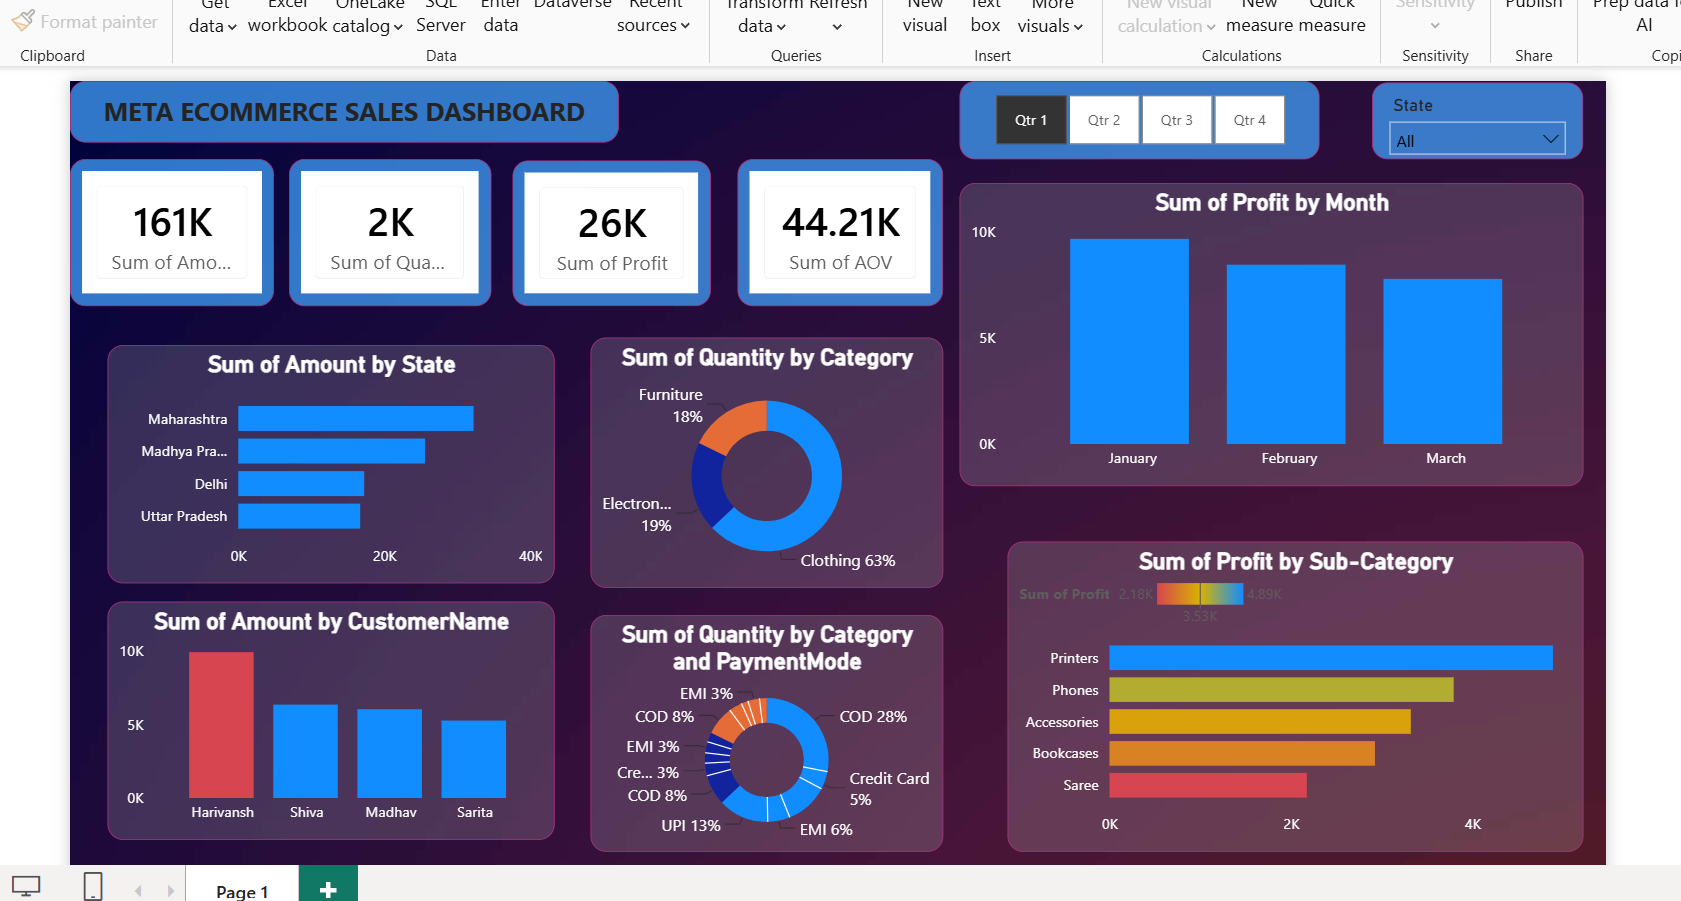

Layout of this report page (visuals, bound fields, positions):
{"tool":"powerbi","page":{"name":"Page 1","canvas":[1280,720],"ordinal":0},"visuals":[{"type":"textbox","box":[0,0,457.5,51.2],"z":0},{"type":"columnChart","fields":{"Category":["Orders.Order Date.Variation.Date Hierarchy.Month"],"Y":["Sum(Details.Profit)"]},"box":[741.2,85,520,252.5],"z":1000},{"type":"barChart","fields":{"Category":["Details.Sub-Category"],"Y":["Sum(Details.Profit)"]},"box":[781.2,383.8,480,258.8],"z":2000},{"type":"donutChart","fields":{"Category":["Details.Category"],"Y":["Sum(Details.Quantity)"]},"box":[433.8,213.8,293.8,208.8],"z":3000},{"type":"donutChart","fields":{"Category":["Details.Category"],"Y":["Sum(Details.Quantity)"],"Series":["Details.PaymentMode"]},"box":[433.8,445,293.8,197.5],"z":4000},{"type":"cardVisual","fields":{"Data":["Sum(Details.Amount)"]},"box":[0,65,170,122.5],"z":5000},{"type":"cardVisual","fields":{"Data":["Sum(Details.Quantity)"]},"box":[182.5,65,168.8,122.5],"z":6000},{"type":"cardVisual","fields":{"Data":["Sum(Details.Profit)"]},"box":[368.8,66.2,165,121.2],"z":7000},{"type":"cardVisual","fields":{"Data":["Sum(Details.AOV)"]},"box":[556.2,65,171.2,122.5],"z":8000},{"type":"barChart","fields":{"Category":["Orders.State"],"Y":["Sum(Details.Amount)"]},"box":[31.2,220,372.5,198.8],"z":9000},{"type":"columnChart","fields":{"Category":["Orders.CustomerName"],"Y":["Sum(Details.Amount)"]},"box":[31.2,433.8,372.5,198.8],"z":10000},{"type":"slicer","fields":{"Values":["Orders.Order Date.Variation.Date Hierarchy.Quarter"]},"box":[741.2,0,300,65],"z":11000},{"type":"slicer","fields":{"Values":["Orders.State"]},"box":[1085,1.2,176.2,63.8],"z":12000}]}

Visuals, with their boxes on the page's 1280x720 design canvas (x1, y1, x2, y2). These are canvas units, not pixel positions in the 1681x901 screenshot, which may show the page scaled, cropped or inside an application window:
textbox: <box>0,0,458,51</box>
columnChart - Orders.Order Date.Variation.Date Hierarchy.Month x Sum(Details.Profit): <box>741,85,1261,338</box>
barChart - Details.Sub-Category x Sum(Details.Profit): <box>781,384,1261,643</box>
donutChart - Details.Category x Sum(Details.Quantity): <box>434,214,728,423</box>
donutChart - Details.Category x Sum(Details.Quantity): <box>434,445,728,642</box>
cardVisual - Sum(Details.Amount): <box>0,65,170,188</box>
cardVisual - Sum(Details.Quantity): <box>182,65,351,188</box>
cardVisual - Sum(Details.Profit): <box>369,66,534,187</box>
cardVisual - Sum(Details.AOV): <box>556,65,727,188</box>
barChart - Orders.State x Sum(Details.Amount): <box>31,220,404,419</box>
columnChart - Orders.CustomerName x Sum(Details.Amount): <box>31,434,404,633</box>
slicer - Orders.Order Date.Variation.Date Hierarchy.Quarter: <box>741,0,1041,65</box>
slicer - Orders.State: <box>1085,1,1261,65</box>
